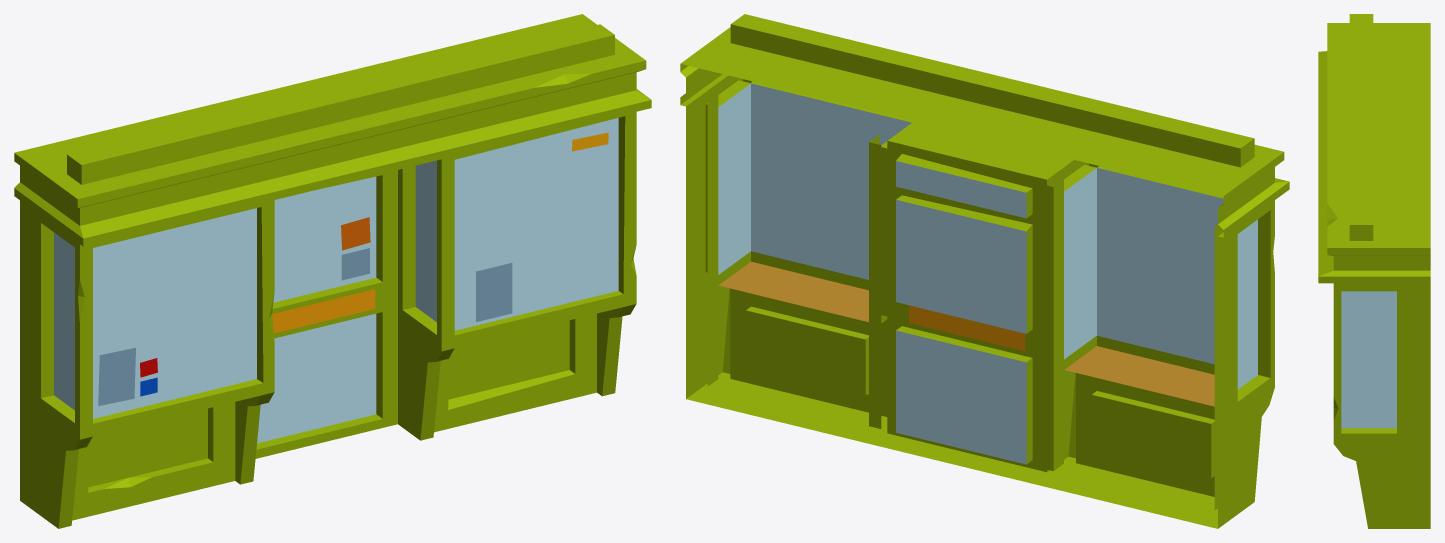
File: House_Front_03_edit.fbx
The picture shows the model from 3 angles, left to right: view 1: azimuth 30°, elevation 25°; view 2: azimuth 150°, elevation 25°; view 3: azimuth 270°, elevation 25°; orthographic projection. The views are drawn at different scales.
Parts seen in each view (by area): view 1: SM_Bld_Shop_04_Glass.001; view 2: SM_Bld_Shop_04_Glass.001; view 3: SM_Bld_Shop_04_Glass.001.
Part boxes in pixels (box(x1,y1,x2,y2)): SM_Bld_Shop_04_Glass.001: box(14, 14, 651, 528); SM_Bld_Shop_04_Glass.001: box(680, 14, 1289, 528); SM_Bld_Shop_04_Glass.001: box(1318, 14, 1430, 528).
Size of the model in its own units: 511 by 317 by 108.
